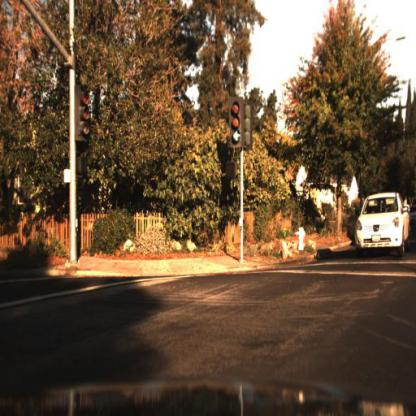car: (354, 192, 411, 256)
trafficLight-GreenLeft: (228, 96, 246, 148)
